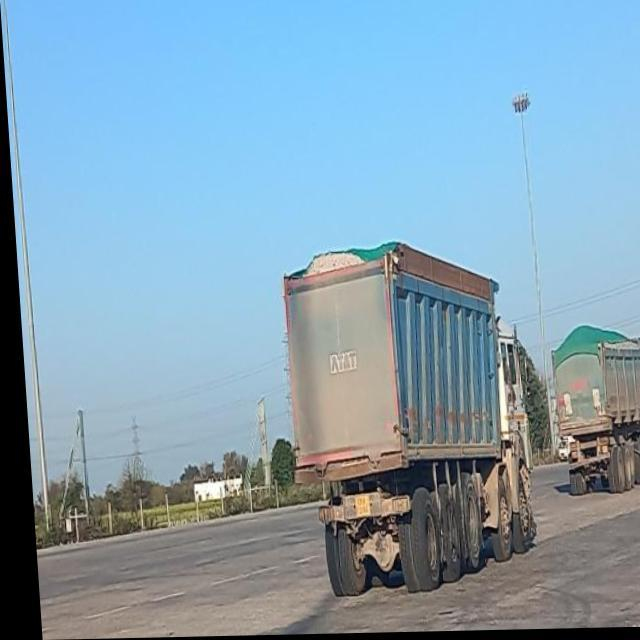covered: (544, 314, 640, 493)
uncovered: (272, 220, 522, 592)
